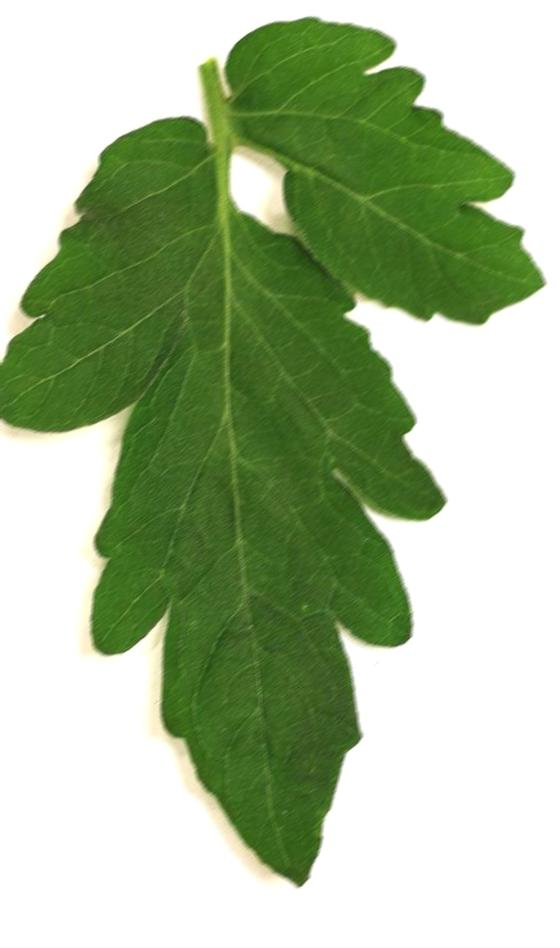Tomato leaf: (9, 109, 407, 912), (229, 29, 550, 340)
